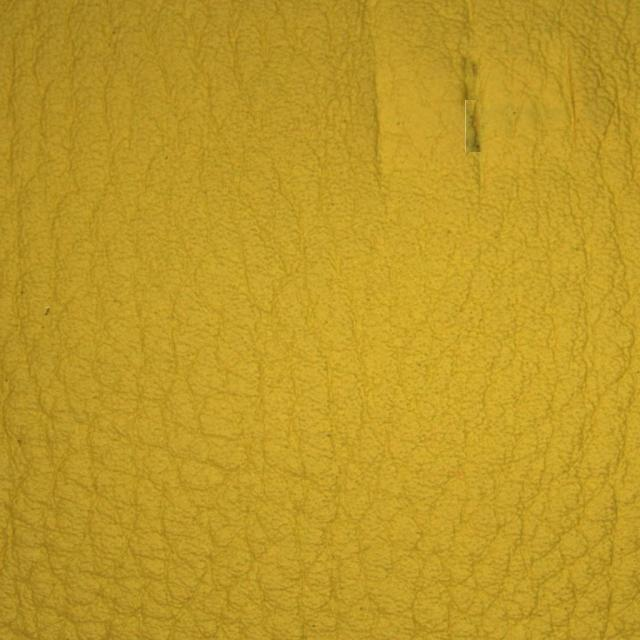Bacterial Injury: (373, 14, 565, 188)
